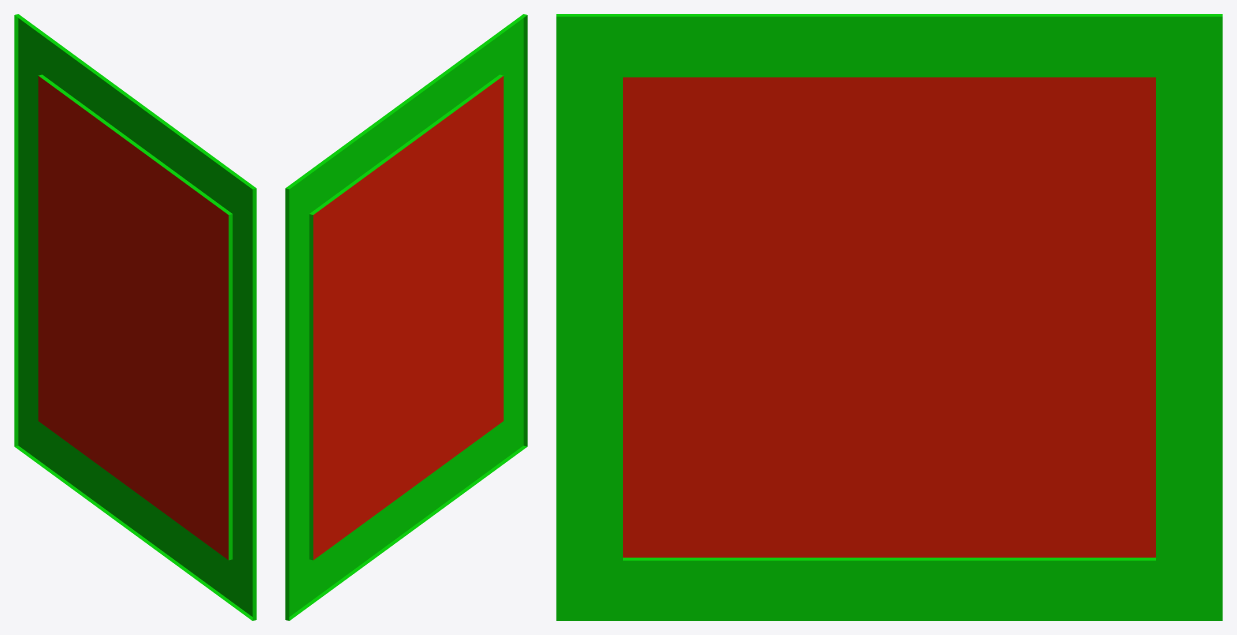
Rendered from basic.glb.
3 renders of one model, left to right at view 1: azimuth 30°, elevation 25°; view 2: azimuth 150°, elevation 25°; view 3: azimuth 270°, elevation 25°, orthographic. The views are drawn at different scales.
Visible parts, largest first — view 1: Plane.alsoStaticPart; view 2: Plane.alsoStaticPart; view 3: Plane.alsoStaticPart.
Part boxes in pixels (x1,y1,x2,y2): Plane.alsoStaticPart: (14, 14, 256, 620); Plane.alsoStaticPart: (285, 14, 527, 620); Plane.alsoStaticPart: (556, 14, 1222, 620).
Size of the model in its own units: 0.01 by 1 by 1.
